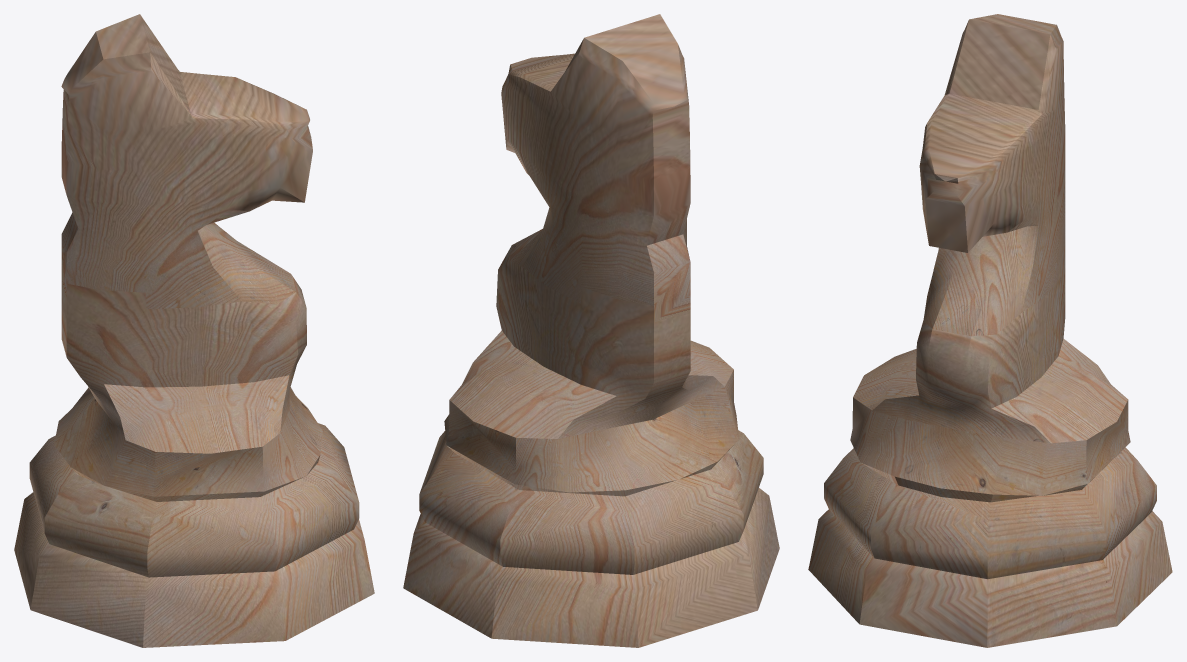
Rendered from Knight_white.glb.
The picture shows the model from 3 angles, left to right: view 1: azimuth 30°, elevation 25°; view 2: azimuth 150°, elevation 25°; view 3: azimuth 270°, elevation 25°; orthographic projection. The views are drawn at different scales.
Visible parts, largest first — view 1: Object_10; view 2: Object_10; view 3: Object_10.
Part boxes in pixels (x1,y1,x2,y2): Object_10: (14, 14, 374, 647); Object_10: (403, 14, 779, 647); Object_10: (808, 14, 1172, 647).
Bounding box in the file's own units: 0.0297 × 0.0472 × 0.0297.
1 material, 1 textured.
